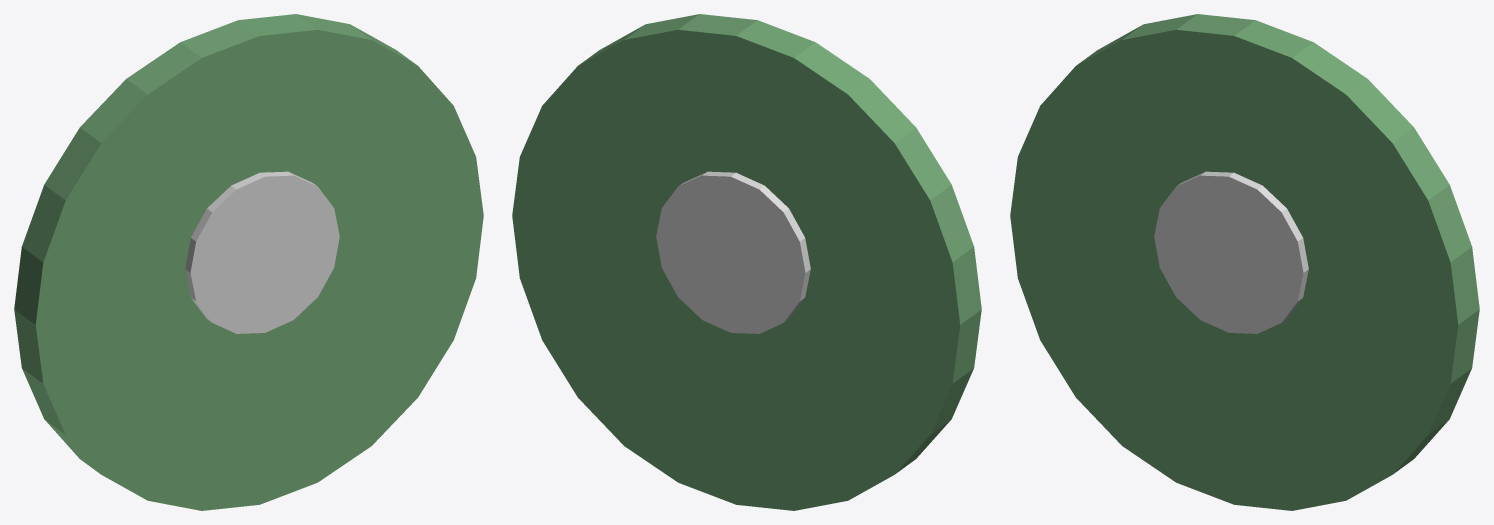
File: mrk_start.glb
3 views of the same model, side by side, from view 1: azimuth 30°, elevation 25°; view 2: azimuth 150°, elevation 25°; view 3: azimuth 330°, elevation 25° (orthographic).
Parts seen in each view (by area): view 1: world; view 2: world; view 3: world.
Boxes of the visible parts, x1,y1,x2,y2 form: world: (14, 14, 483, 510); world: (512, 14, 981, 510); world: (1010, 14, 1479, 510).
Size of the model in its own units: 1.2 by 1.2 by 0.15.
